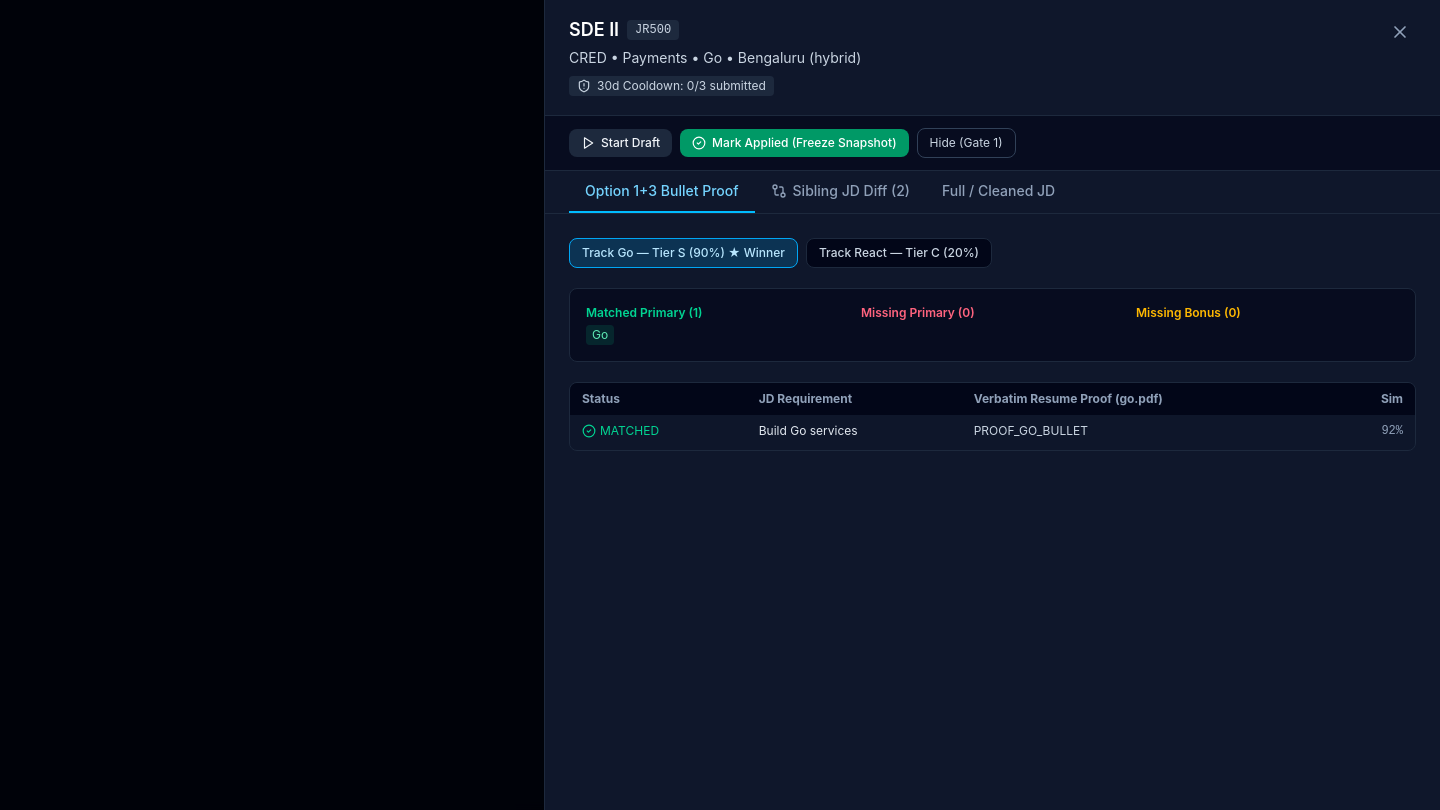
it: Frontend Multi-Filter, Track Switching, Sibling Switch & Watchlist Interactions › JobDetailDrawer switches between multiple resume tracks and multiple sibling diffs
Expected: the text "PROOF_GO_BULLET" is shown, [962,415,1334,450]
Click the button "Track React — Tier C (20%)".
click(899, 253)  # box [806,238,992,268]
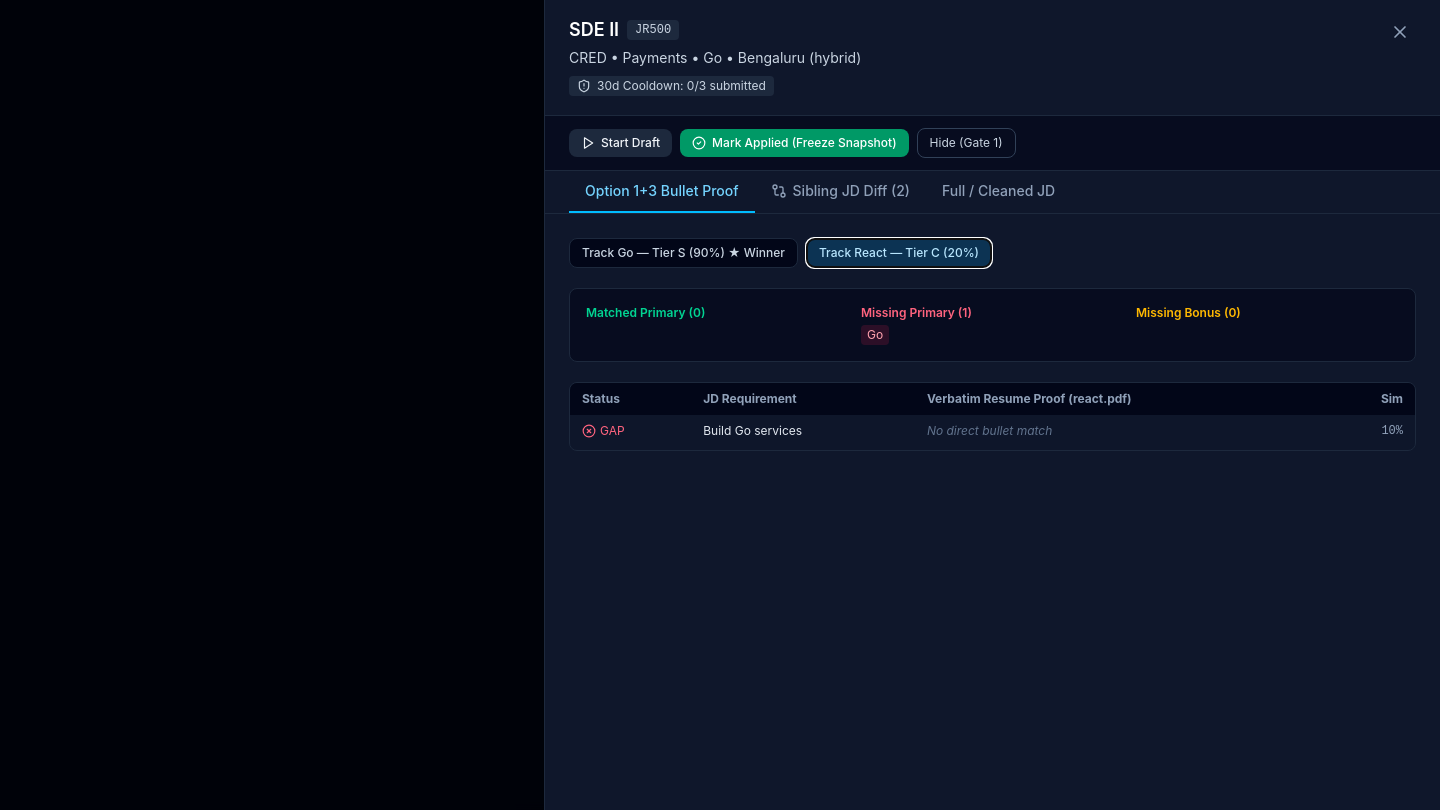
Expected: the text "PROOF_GO_BULLET" is gone
Expected: the text "No direct bullet match" is shown, [927,423,1052,438]
Click the button "Sibling JD Diff (2)".
click(840, 192)  # box [755,171,926,213]
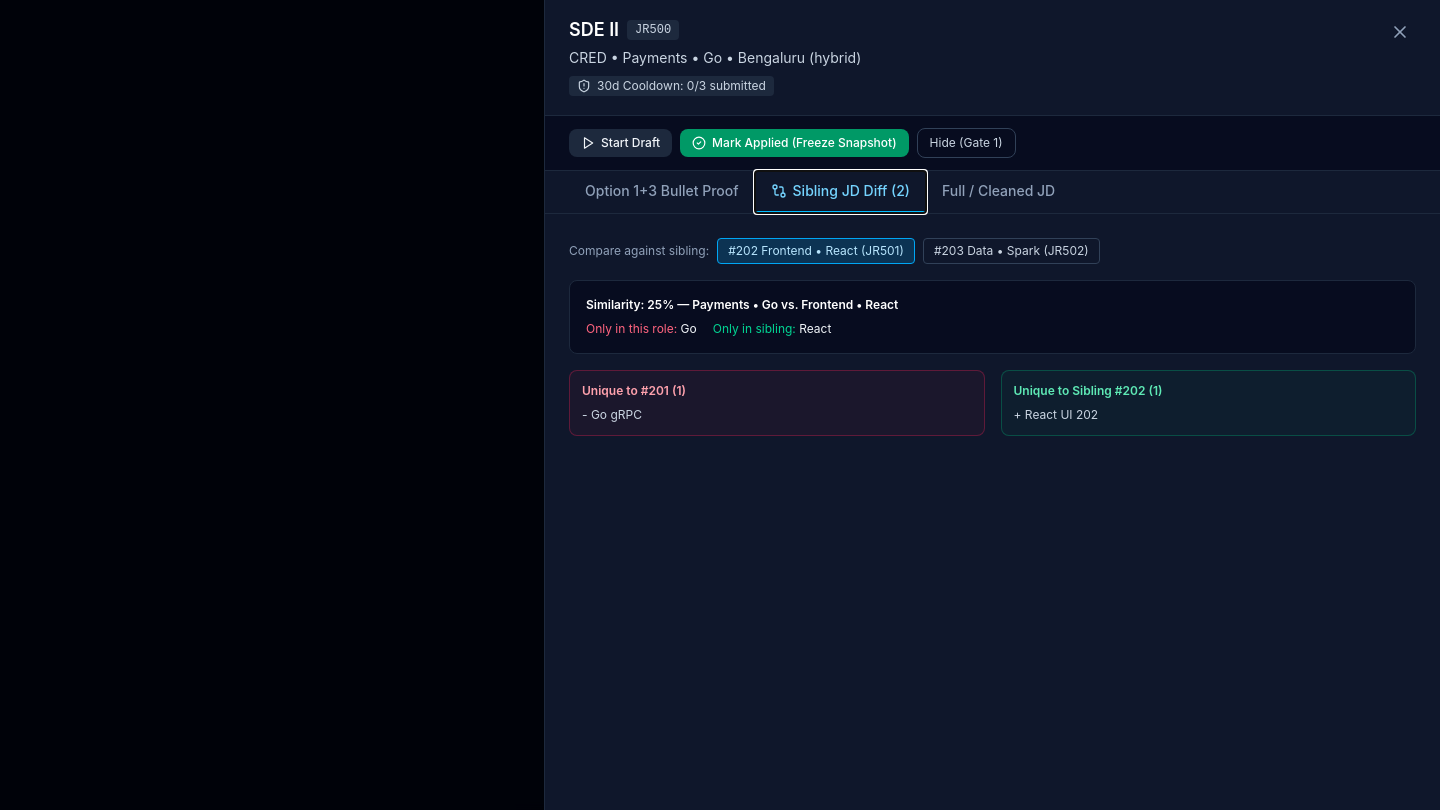
Expected: the list item "+ React UI 202" is shown, [1014,407,1098,422]
Click the button "#203 Data • Spark (JR502)".
click(1011, 251)  # box [923,238,1100,264]
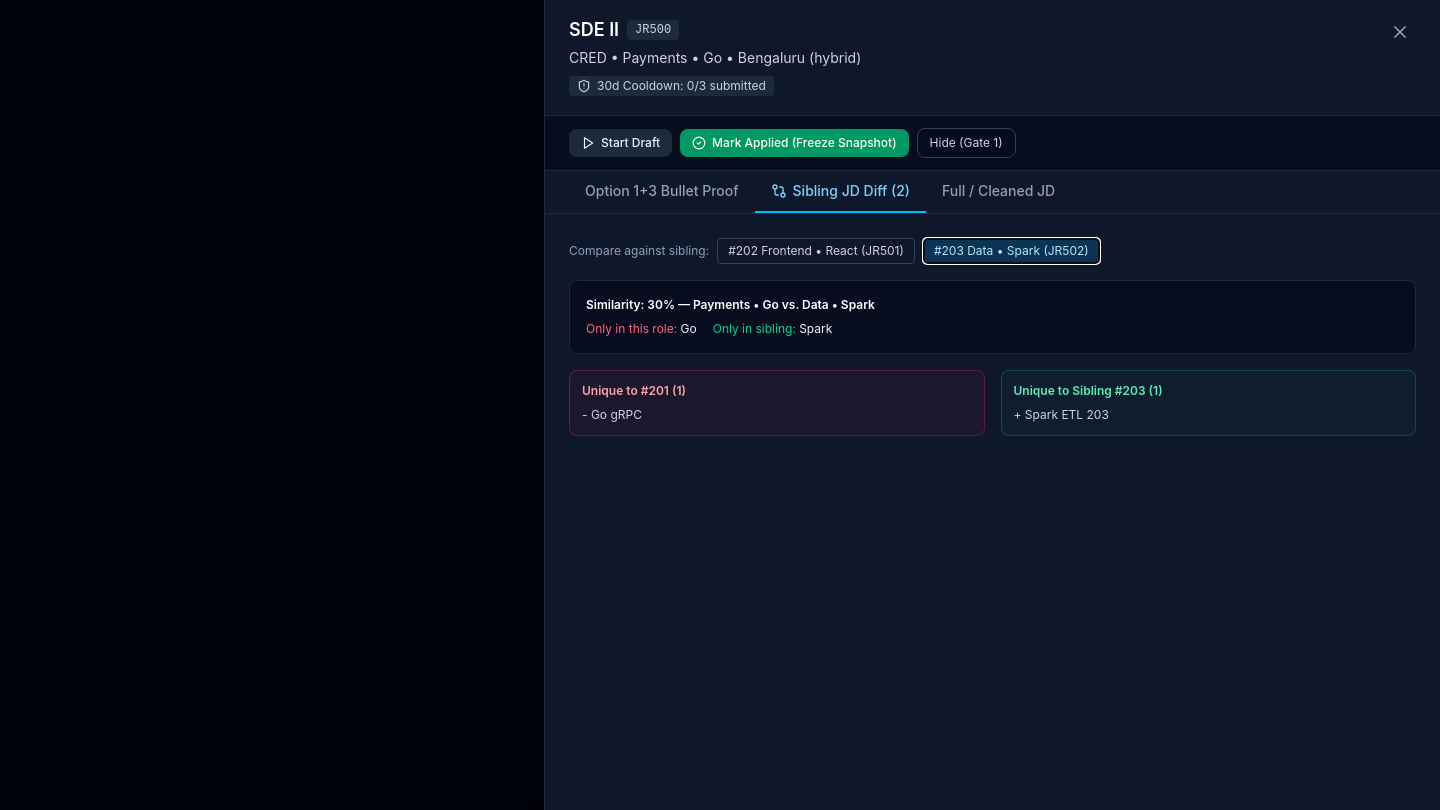
Expected: the list item "+ Spark ETL 203" is shown, [1014,407,1109,422]
